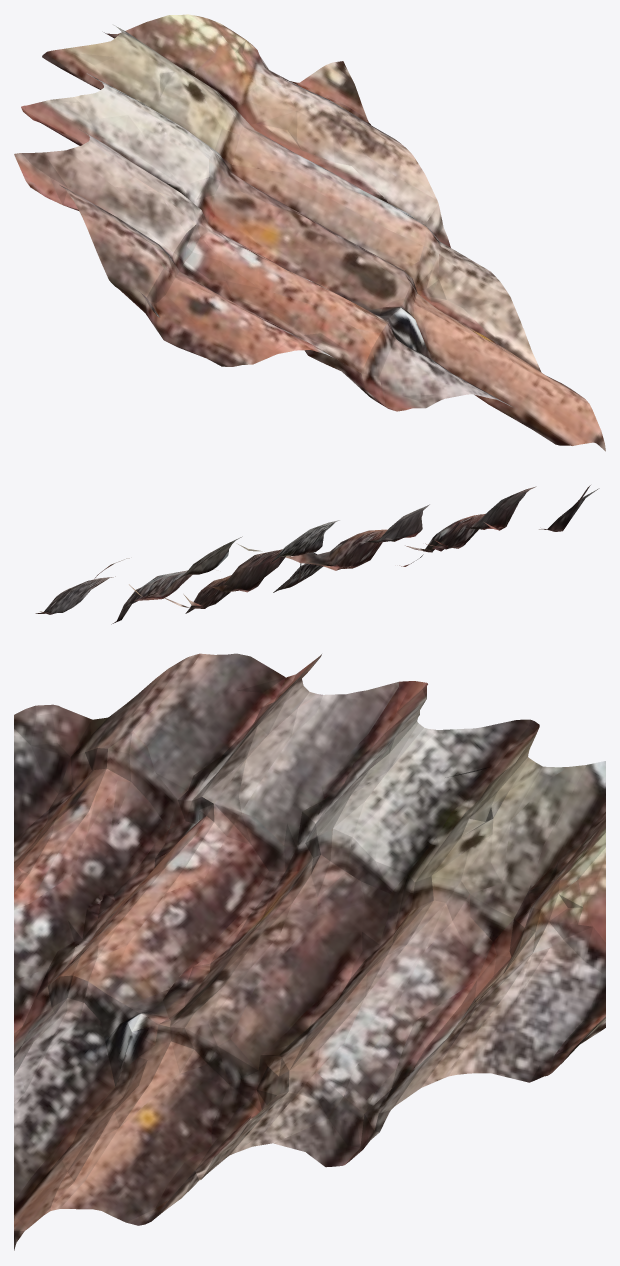
3 renders of one model, top to bottom at view 1: azimuth 30°, elevation 25°; view 2: azimuth 150°, elevation 25°; view 3: azimuth 270°, elevation 25°, orthographic. The views are drawn at different scales.
Size of the model in its own units: 0.8374 by 0.5428 by 0.8373.
Materials: 3 (3 with a texture image).
